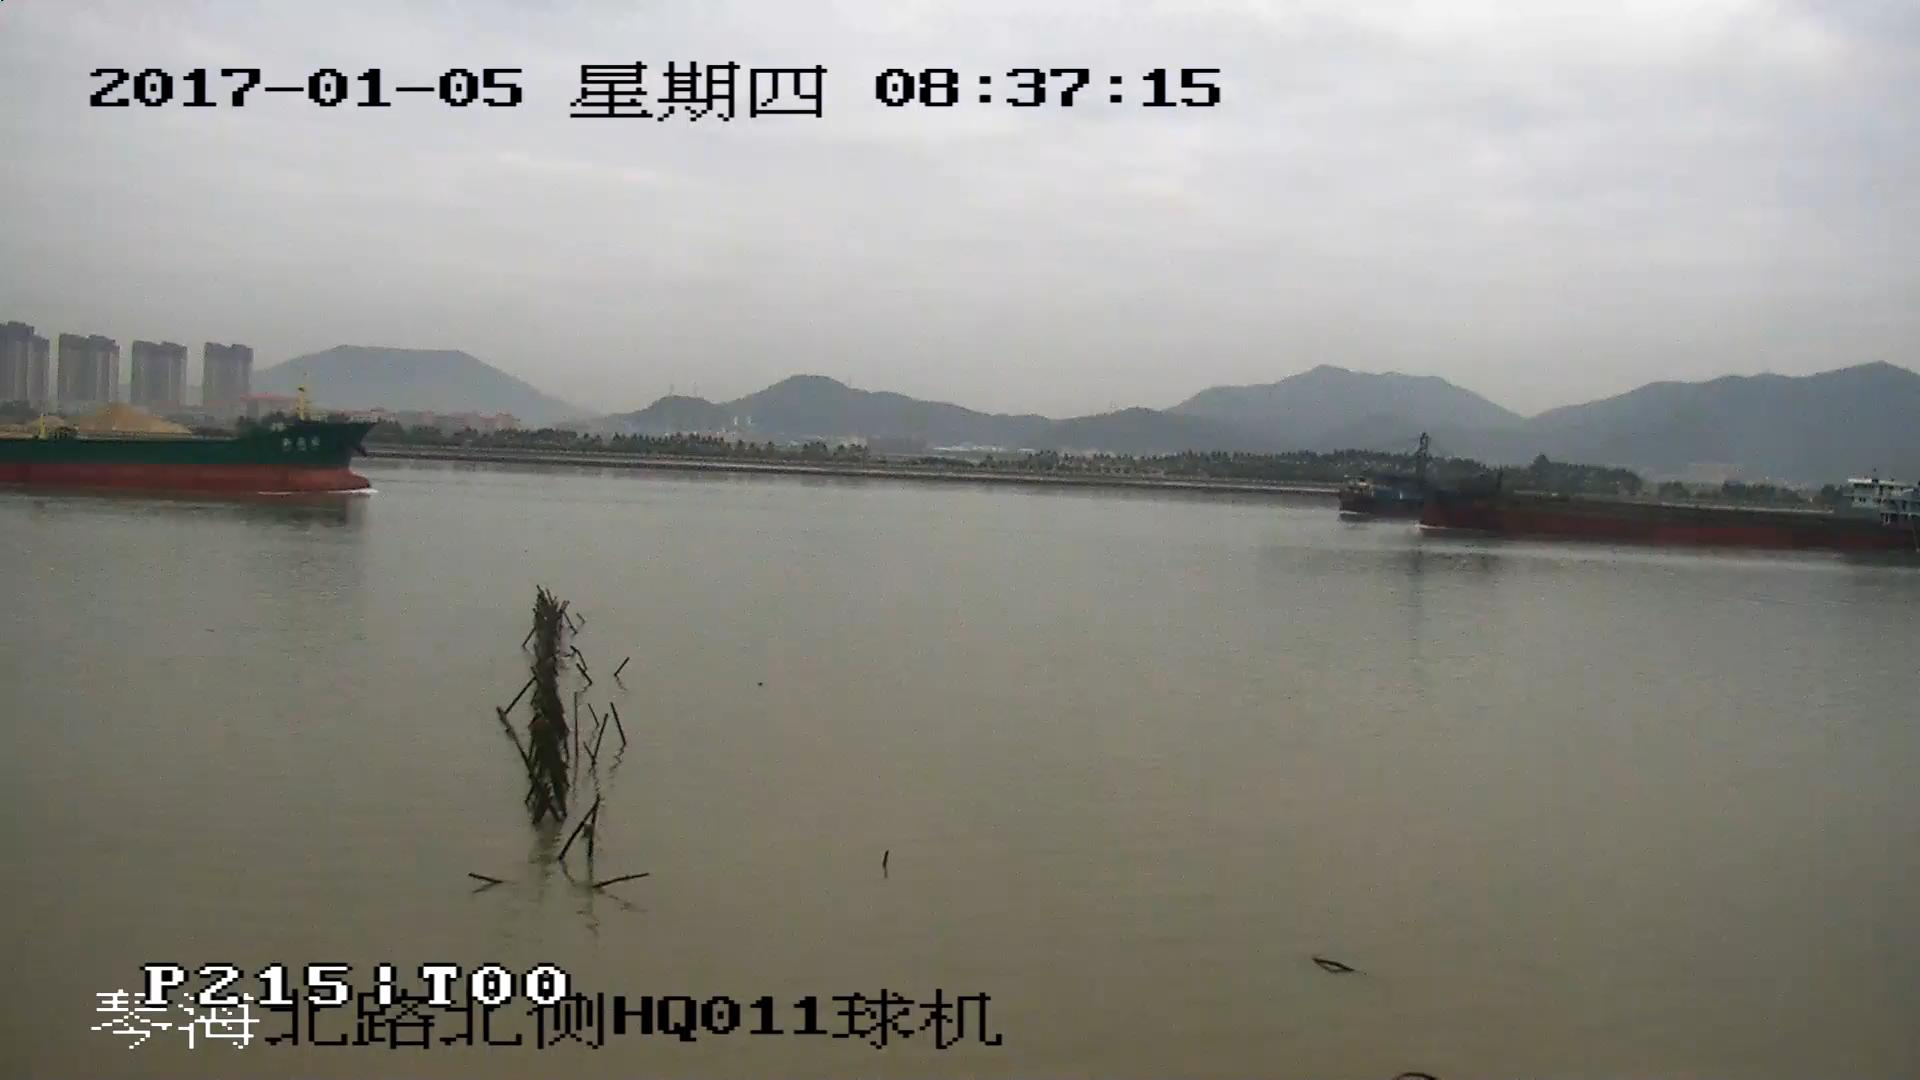bulk cargo carrier: (1339, 441, 1920, 551)
general cargo ship: (1, 388, 370, 496)
